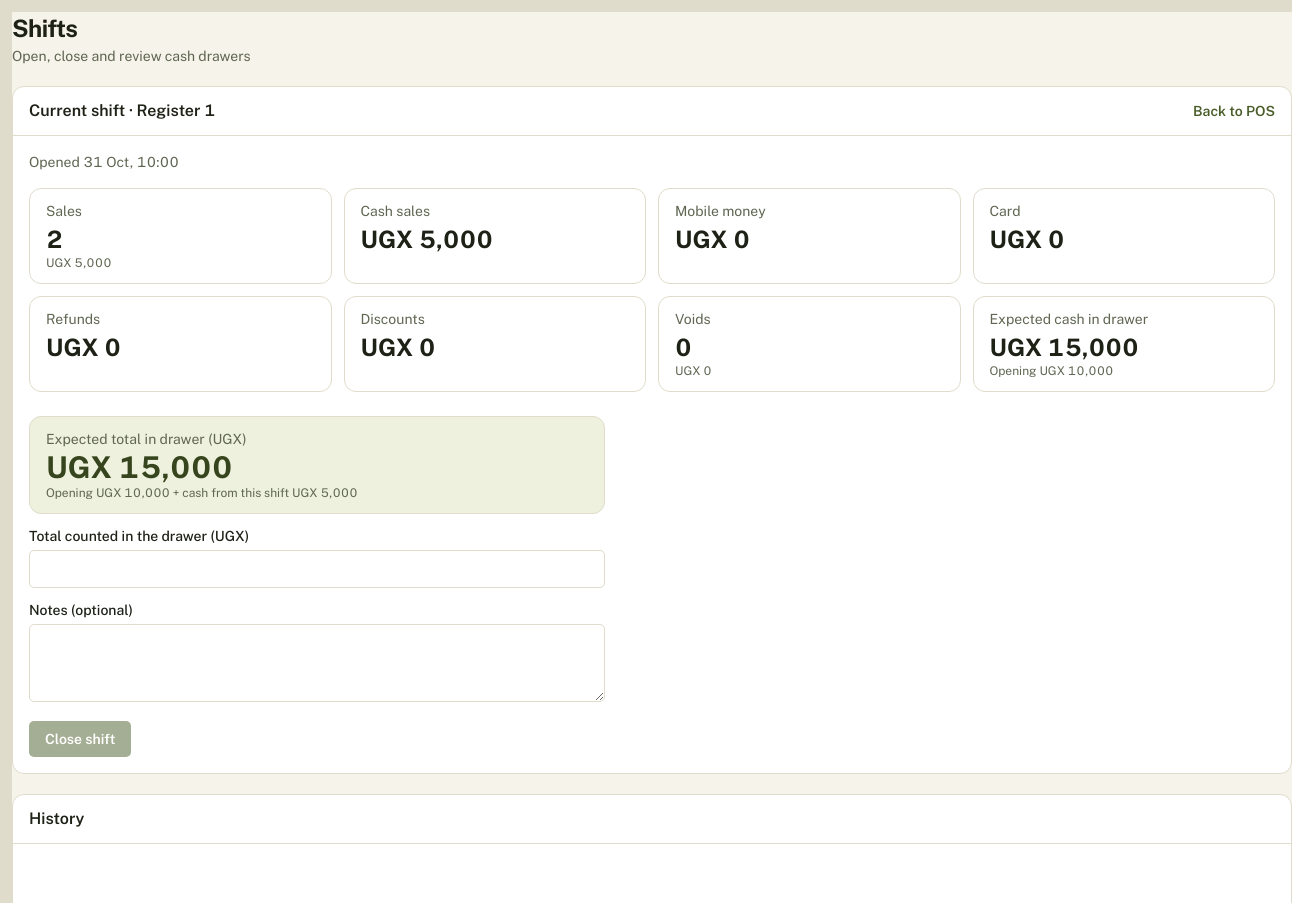
closing a shift › shows the expected drawer total (opening + shift cash) already filled in
The width and height of the screenshot is (1292, 903).
Expected: the text with test id "expected-total" shows "15,000", [46, 449, 233, 485]
Expected: the text "Opening UGX 10,000 + cash from this shift UGX 5,000" is shown, [46, 486, 358, 500]
Type "15000" into the field labelled "Total counted in the drawer (UGX)" at [317, 569], box [29, 550, 605, 588]
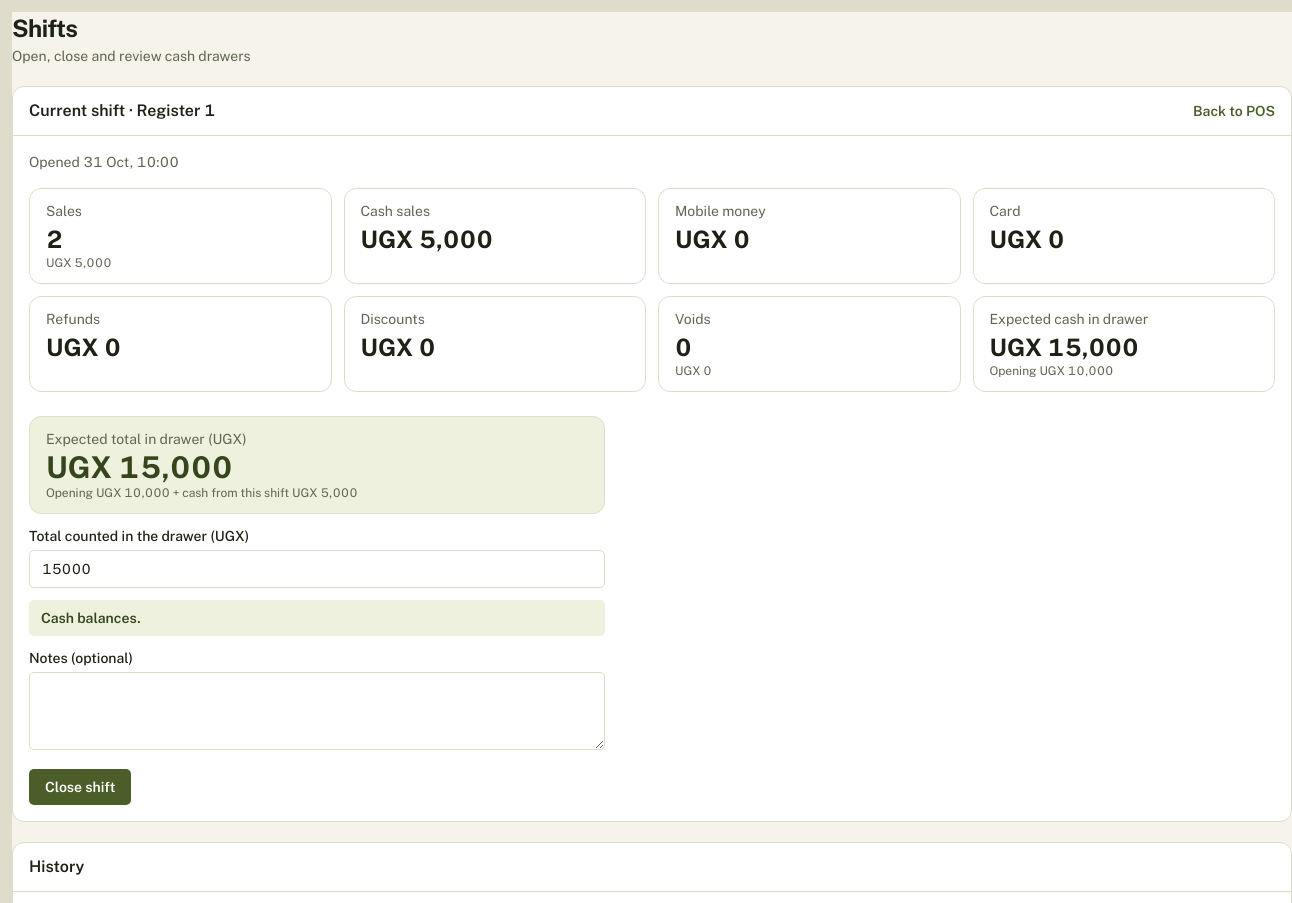
Result: the button "Close shift" is enabled at [29, 769, 131, 805]
